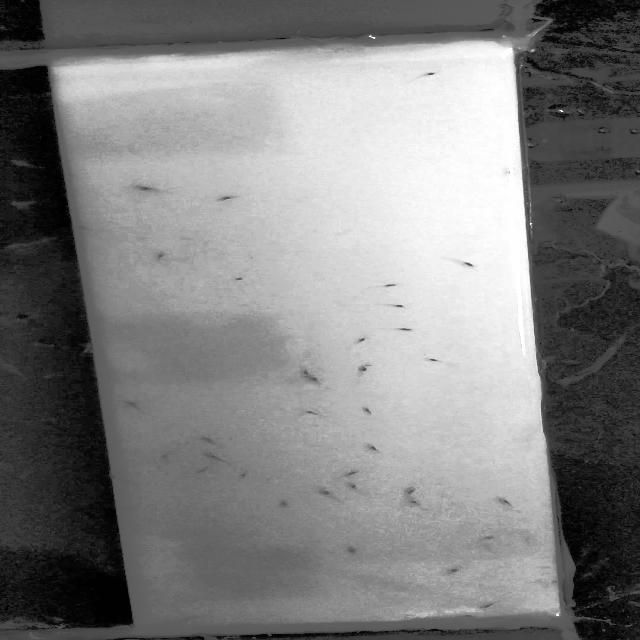shrimp: (435, 254, 483, 268), (406, 69, 450, 84), (206, 190, 241, 206), (367, 278, 407, 291), (387, 324, 424, 335), (423, 354, 456, 366), (120, 399, 148, 413), (394, 485, 424, 498), (375, 301, 412, 311), (344, 546, 372, 558), (274, 500, 298, 514), (359, 405, 384, 418), (315, 485, 342, 497), (478, 531, 504, 543), (338, 466, 369, 476), (401, 498, 429, 509), (444, 564, 469, 576), (497, 495, 517, 510), (358, 366, 378, 381), (70, 222, 95, 233), (134, 185, 164, 194), (476, 600, 509, 608), (361, 442, 383, 454), (108, 472, 130, 483), (162, 450, 186, 460), (300, 406, 324, 416), (354, 336, 374, 348), (192, 465, 217, 474), (346, 480, 366, 491), (150, 250, 172, 260), (235, 472, 256, 482), (230, 275, 255, 283), (197, 435, 219, 444), (206, 454, 230, 462), (173, 616, 200, 623), (456, 612, 484, 618), (293, 369, 317, 376), (308, 376, 324, 384)
